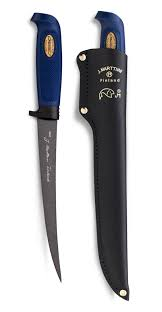knife: (24, 8, 72, 284)
